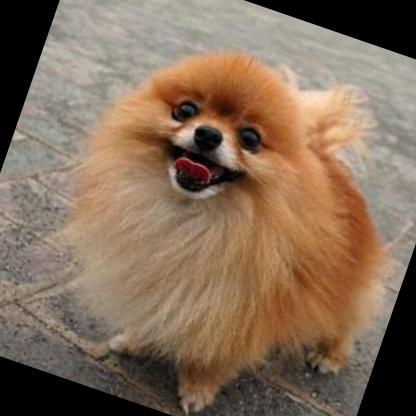Pomeranian: (17, 12, 416, 416)
